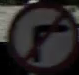Don't turn right: (18, 6, 71, 64)
